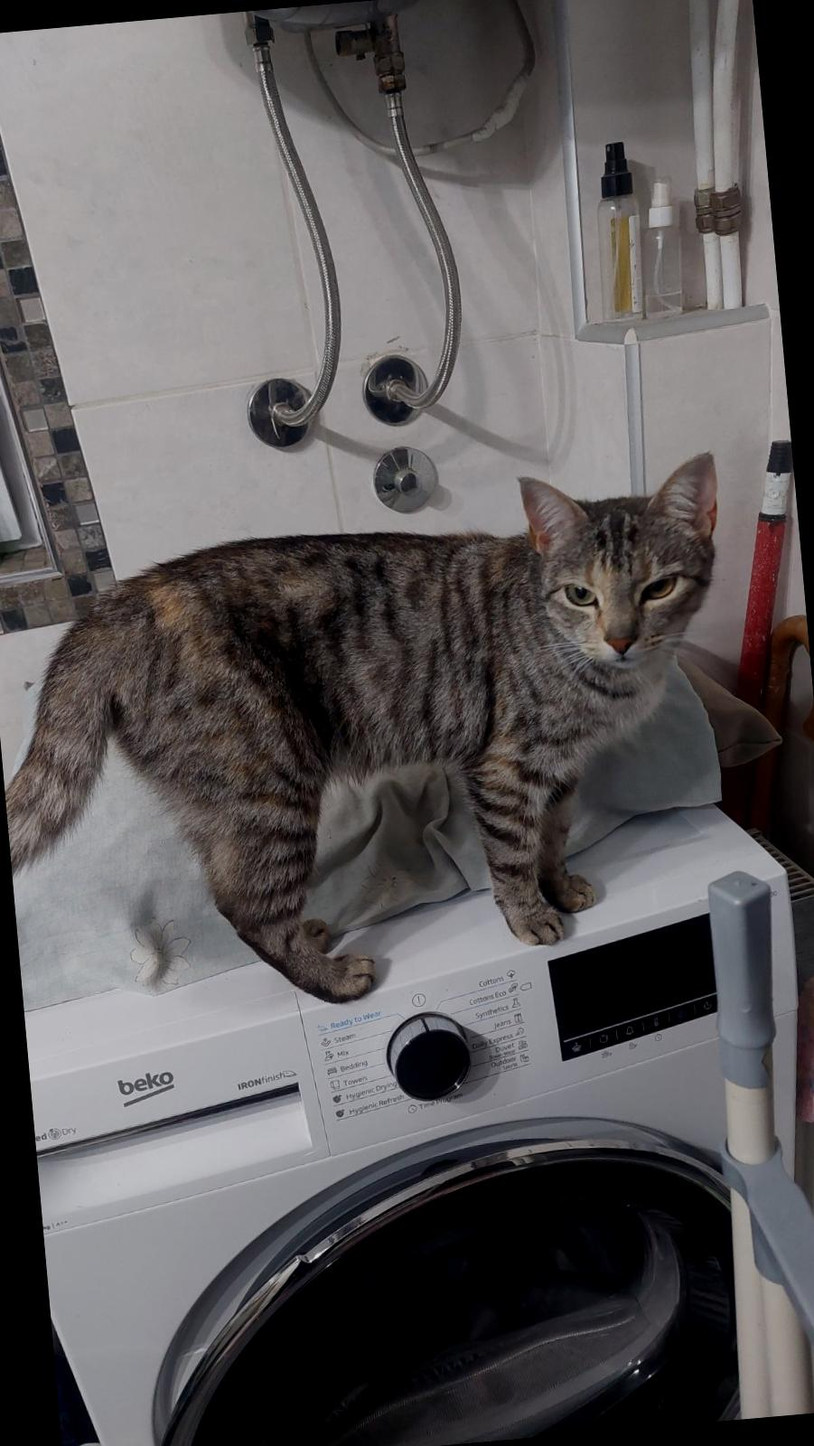macka: (0, 447, 766, 1032)
